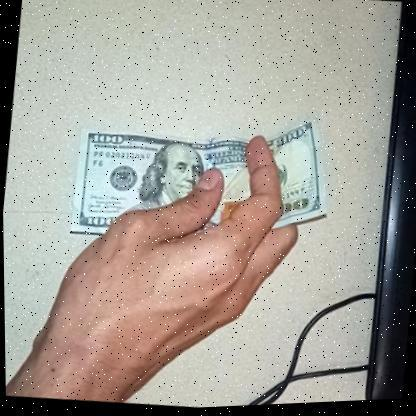one_hundred-front: (62, 90, 336, 268)
